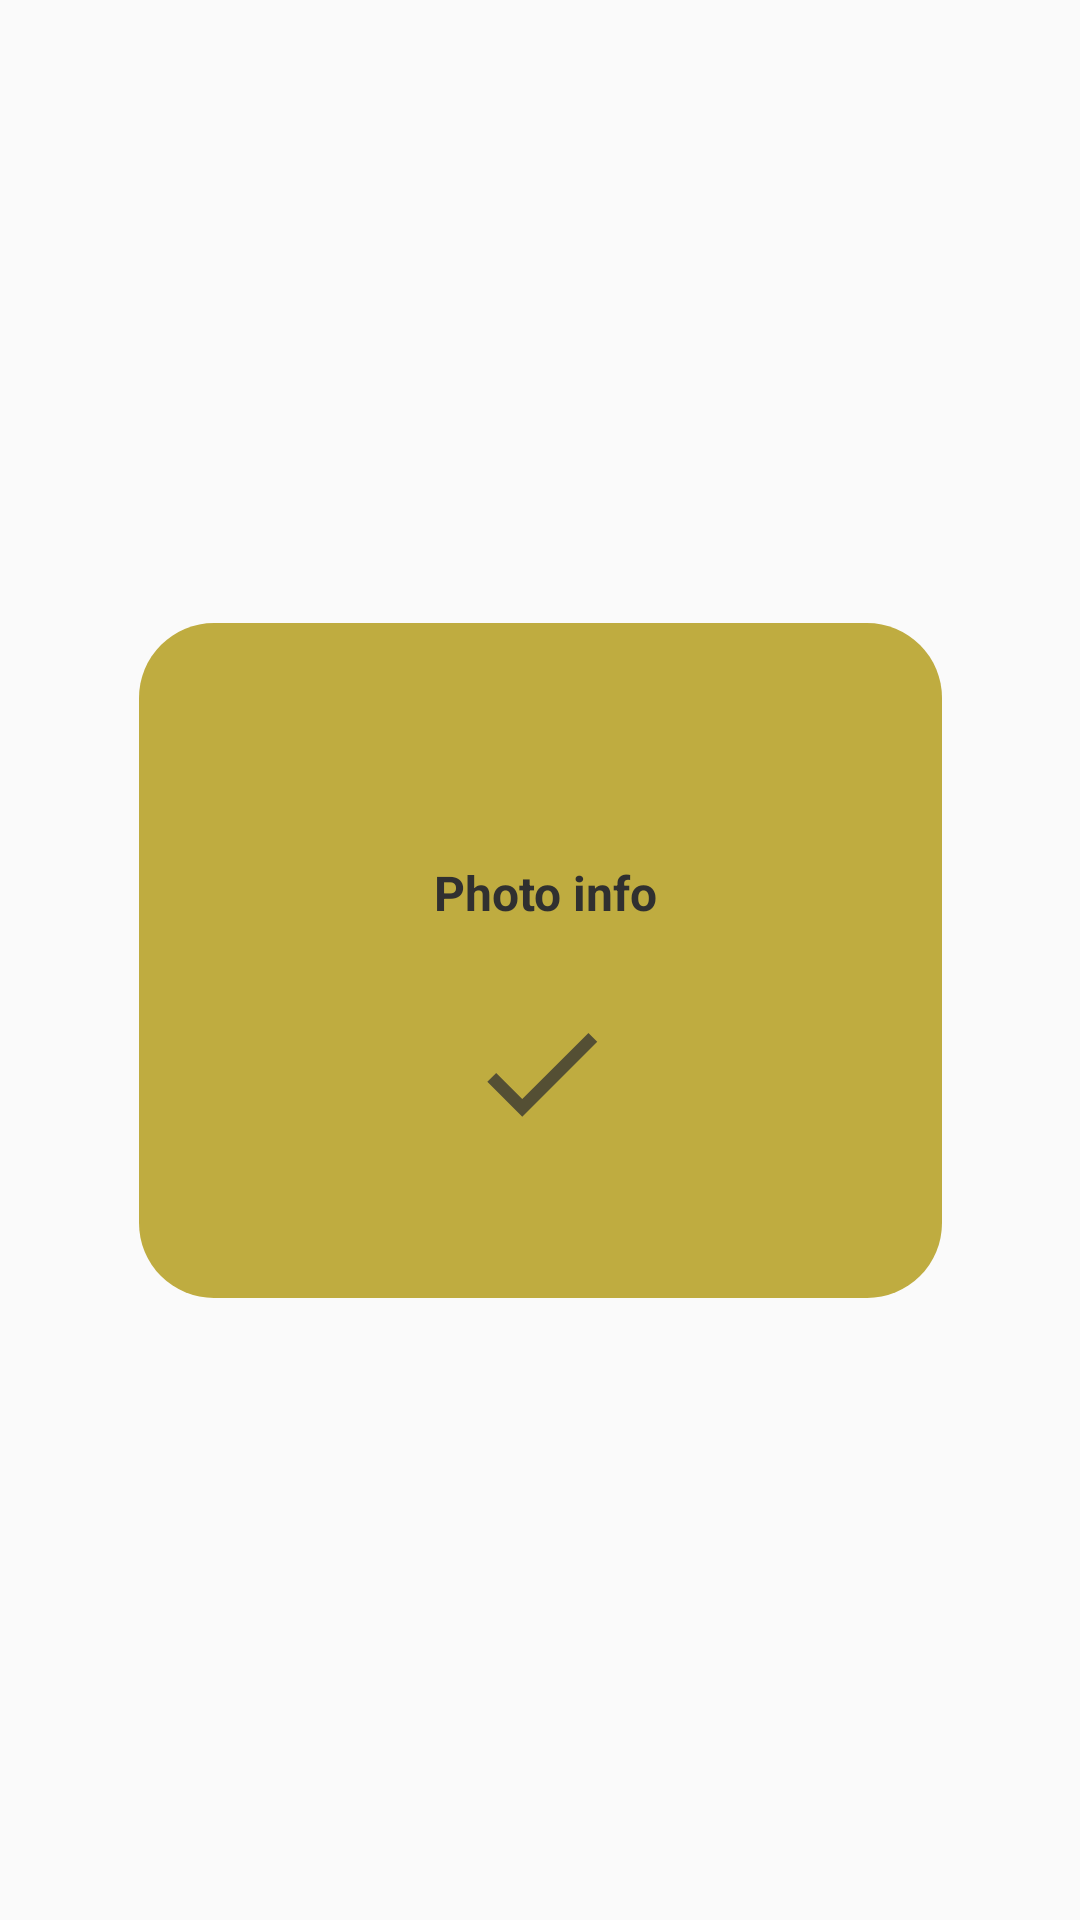

Icon bounding boxes for this 1080w x 1920h phone screenshot, format [x1=x1, y1=y1, x2=x2, y2=y2]:
check: [x1=487, y1=1033, x2=597, y2=1117]
